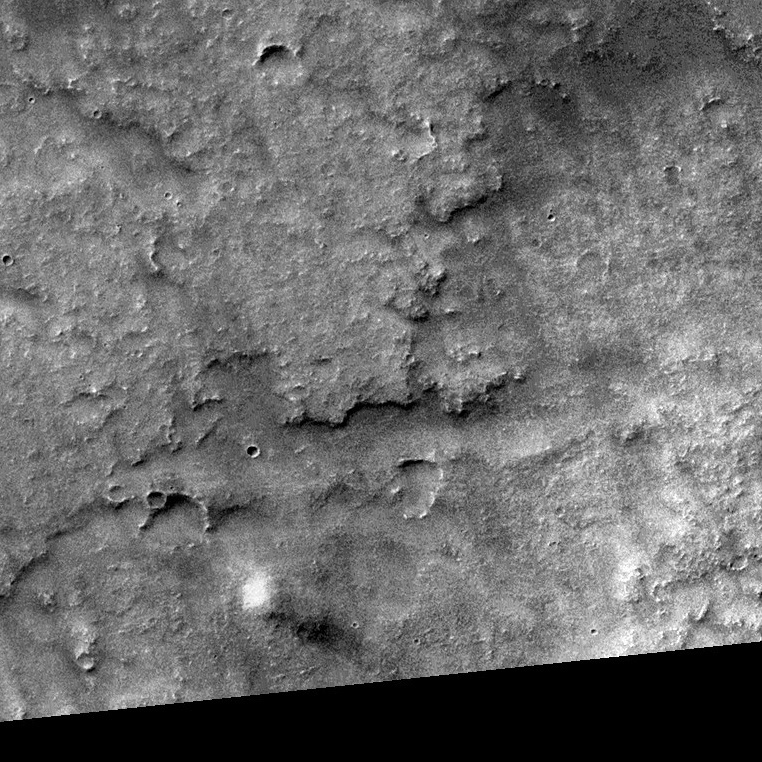dust_devil: (234, 561, 372, 667)
